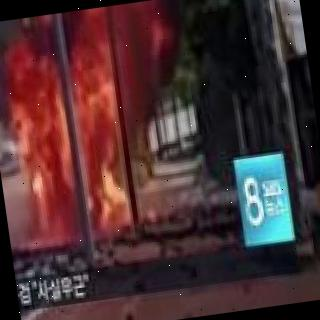fire: (19, 63, 135, 239)
